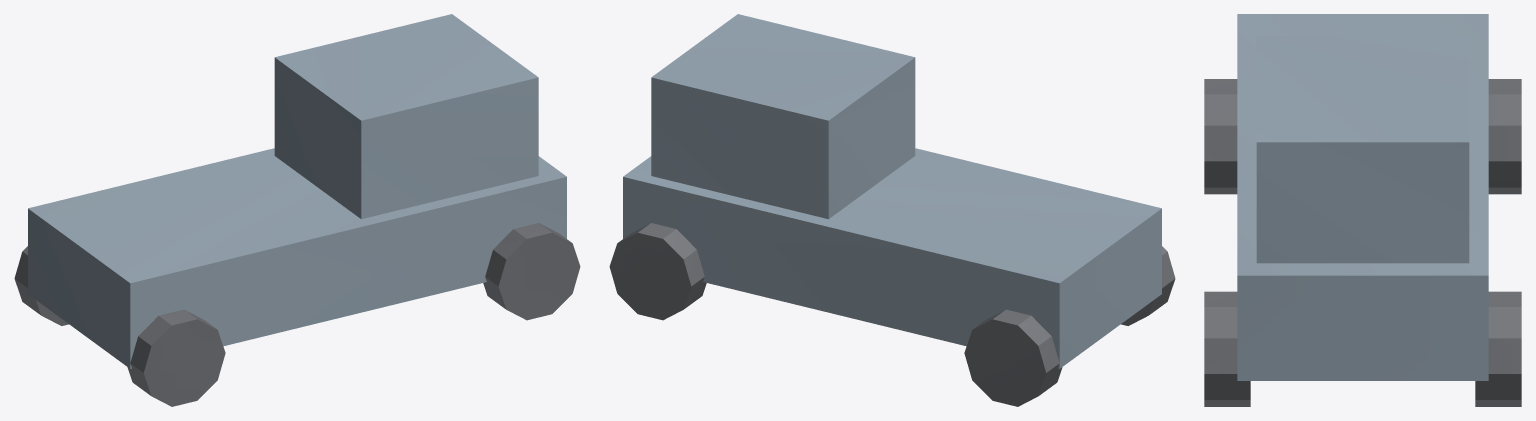
File: road_vehicle-01.glb
3 renders of one model, left to right at view 1: azimuth 30°, elevation 25°; view 2: azimuth 150°, elevation 25°; view 3: azimuth 270°, elevation 25°, orthographic. The views are drawn at different scales.
Parts seen in each view (by area): view 1: world; view 2: world; view 3: world.
Part boxes in pixels (<box>): world: <box>14,14,580,406</box>; world: <box>609,14,1175,406</box>; world: <box>1204,14,1521,406</box>.
Bounding box in the file's own units: 1.6 × 0.7677 × 0.82.
